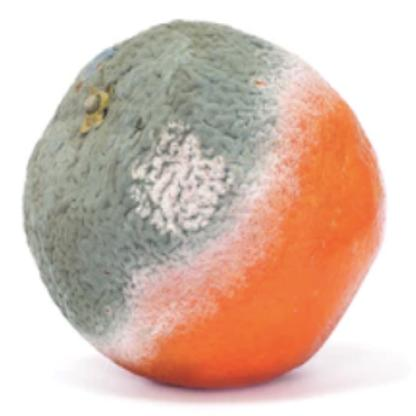rotten: (25, 22, 385, 394)
